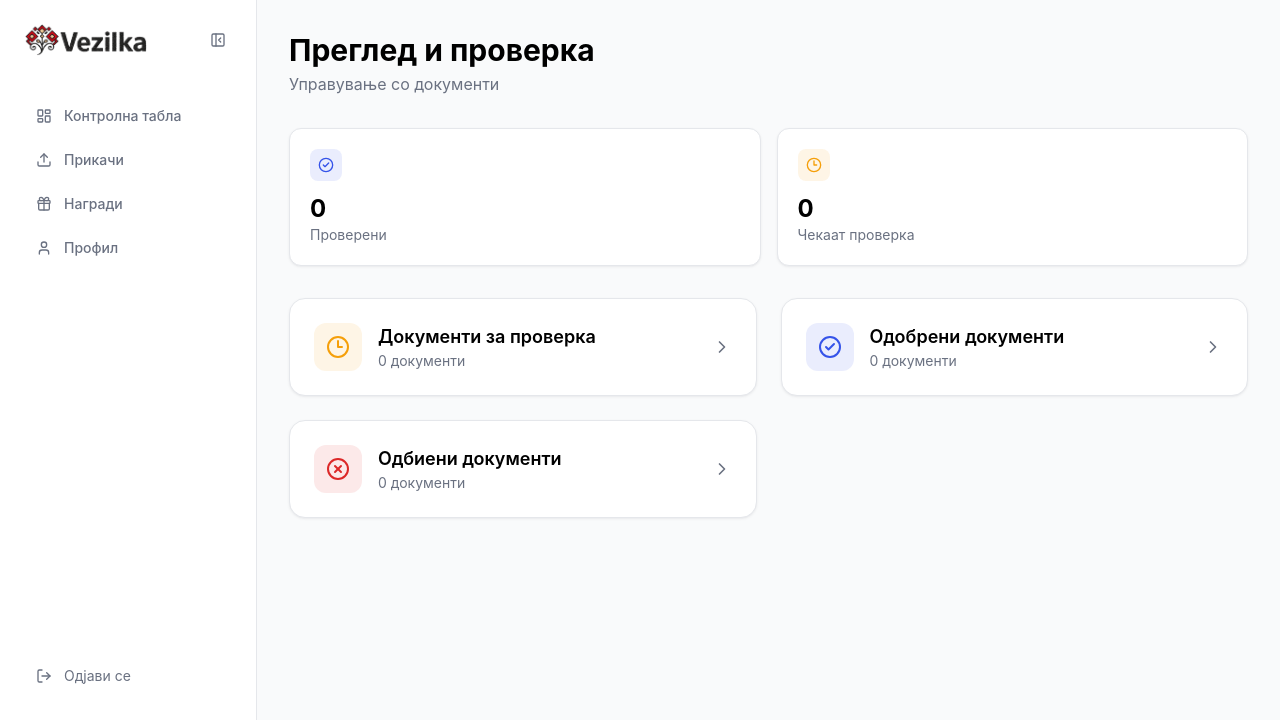
Scenario: AdminPage › shows empty state when a document group has no documents
Step 1. Click the button "Документи за проверка 0 документи" → (523, 347), box [289,298,756,396]
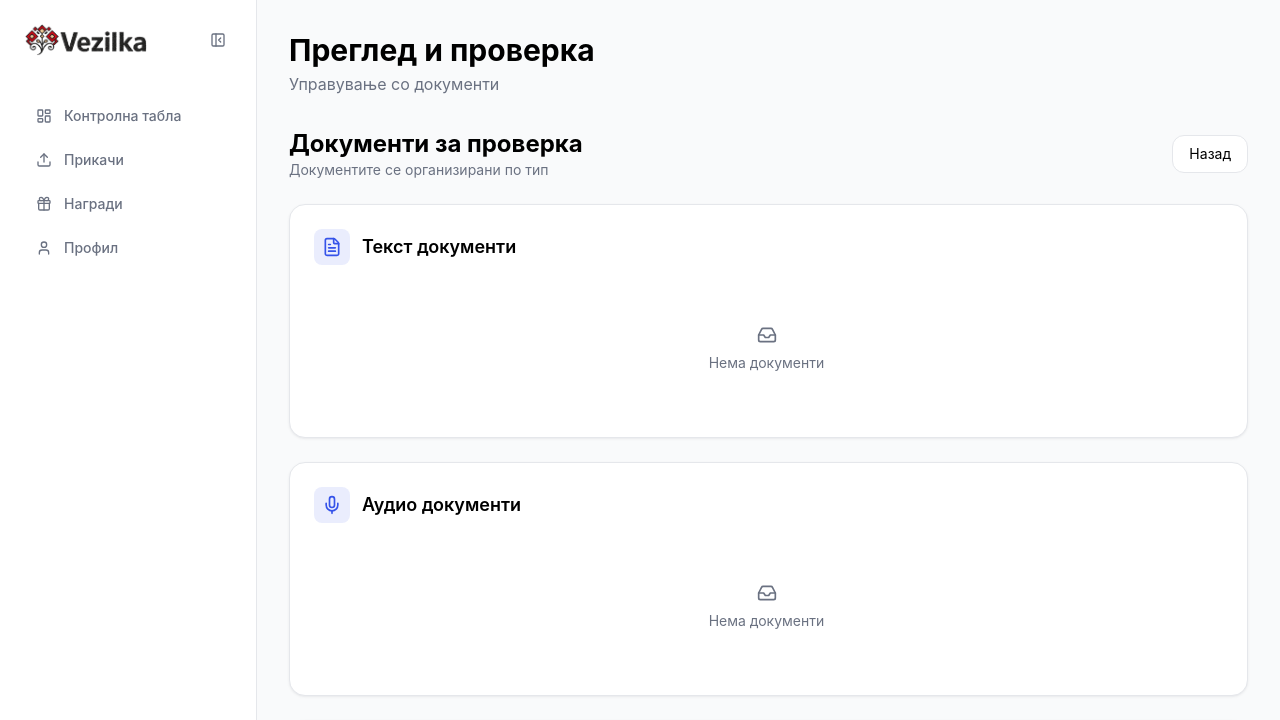
expect the text "Нема документи" is shown 4 times: met
